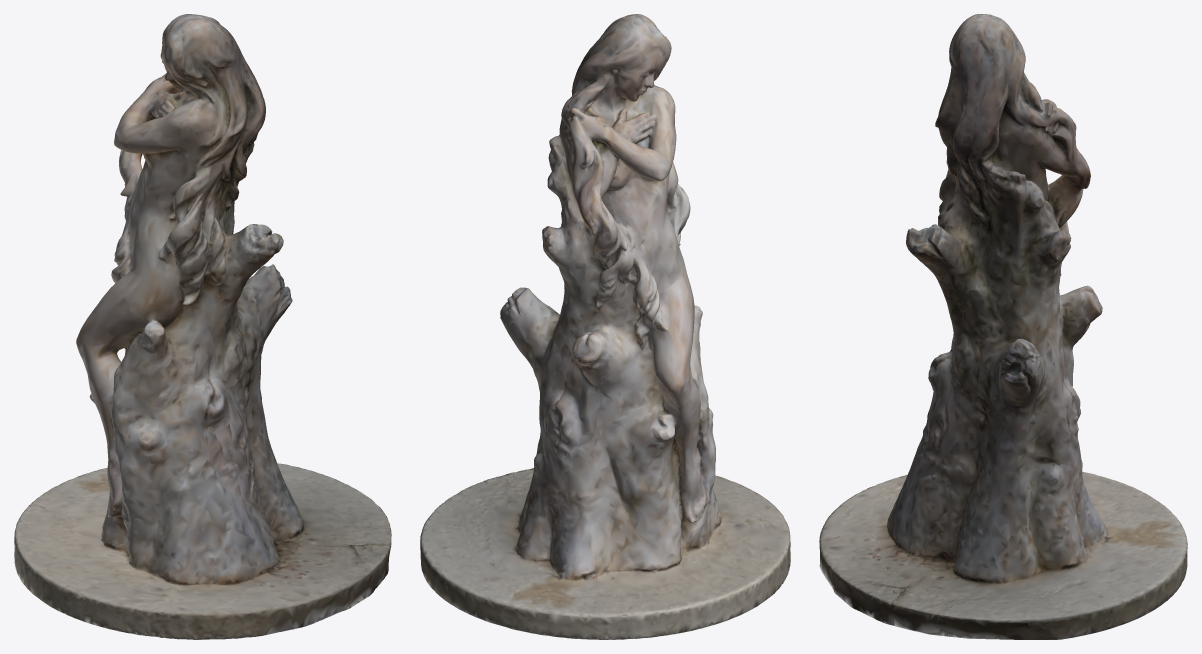
The model's file is daphne.glb.
The picture shows the model from 3 angles, left to right: view 1: azimuth 30°, elevation 25°; view 2: azimuth 150°, elevation 25°; view 3: azimuth 270°, elevation 25°; orthographic projection. The views are drawn at different scales.
Visible parts, largest first — view 1: Daphne; view 2: Daphne; view 3: Daphne.
Part boxes in pixels (<box>): Daphne: <box>14,14,391,639</box>; Daphne: <box>420,14,790,639</box>; Daphne: <box>819,14,1187,639</box>.
Bounding box in the file's own units: 1.24 × 2 × 1.24.
